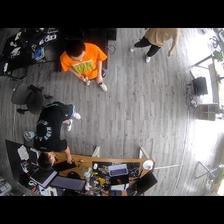normal: (33, 100, 80, 167), (58, 39, 109, 93)
